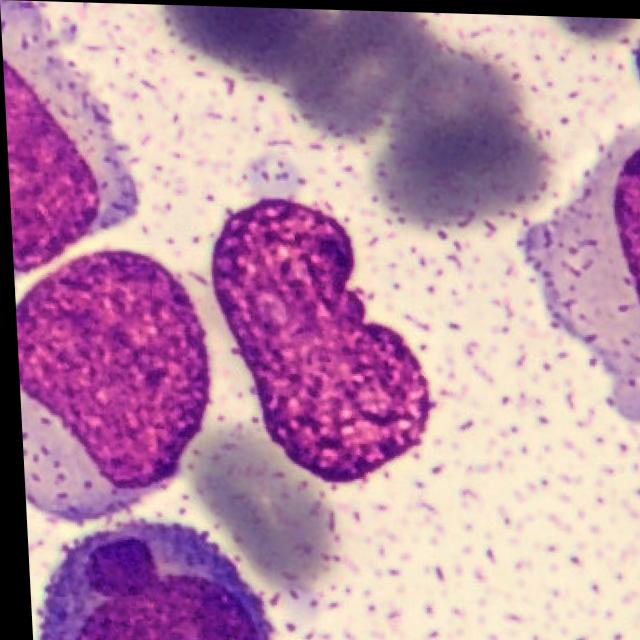Mieloblasto: (12, 249, 210, 525)
Restos celulares: (208, 198, 429, 485)
